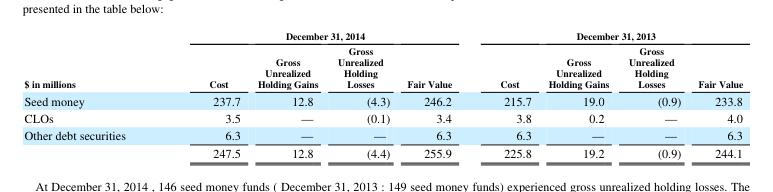table: (23, 28, 742, 160)
table column: (23, 28, 166, 160), (166, 28, 248, 160), (248, 28, 327, 160), (539, 28, 618, 160), (398, 28, 475, 160), (327, 28, 398, 160), (618, 28, 688, 160), (475, 28, 539, 160), (688, 28, 742, 160)
table column header: (23, 28, 742, 91)
table row: (23, 43, 742, 91), (23, 125, 742, 143), (23, 91, 742, 108), (23, 108, 742, 125), (23, 143, 742, 160), (23, 28, 742, 43)
table spanning cell: (23, 28, 166, 91), (166, 28, 475, 43), (475, 28, 742, 43)
